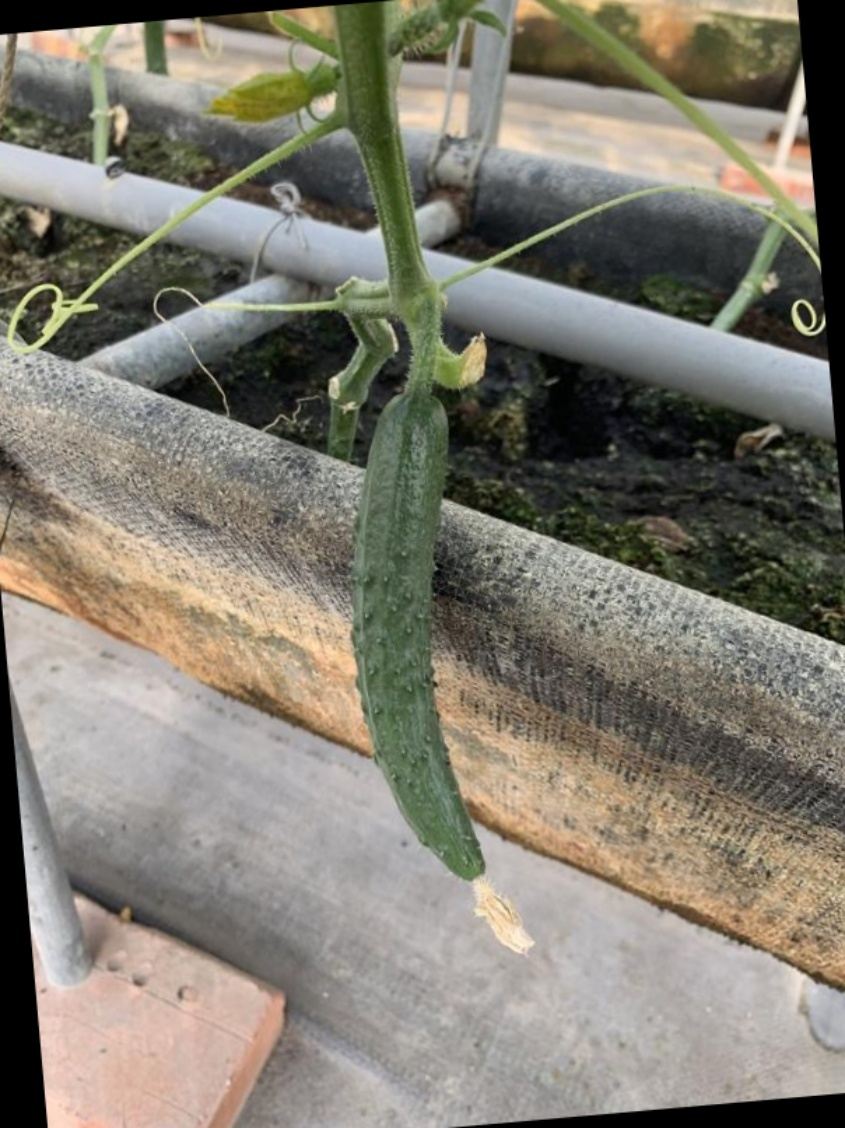growth: (325, 385, 501, 916)
mature: (338, 395, 500, 916)
